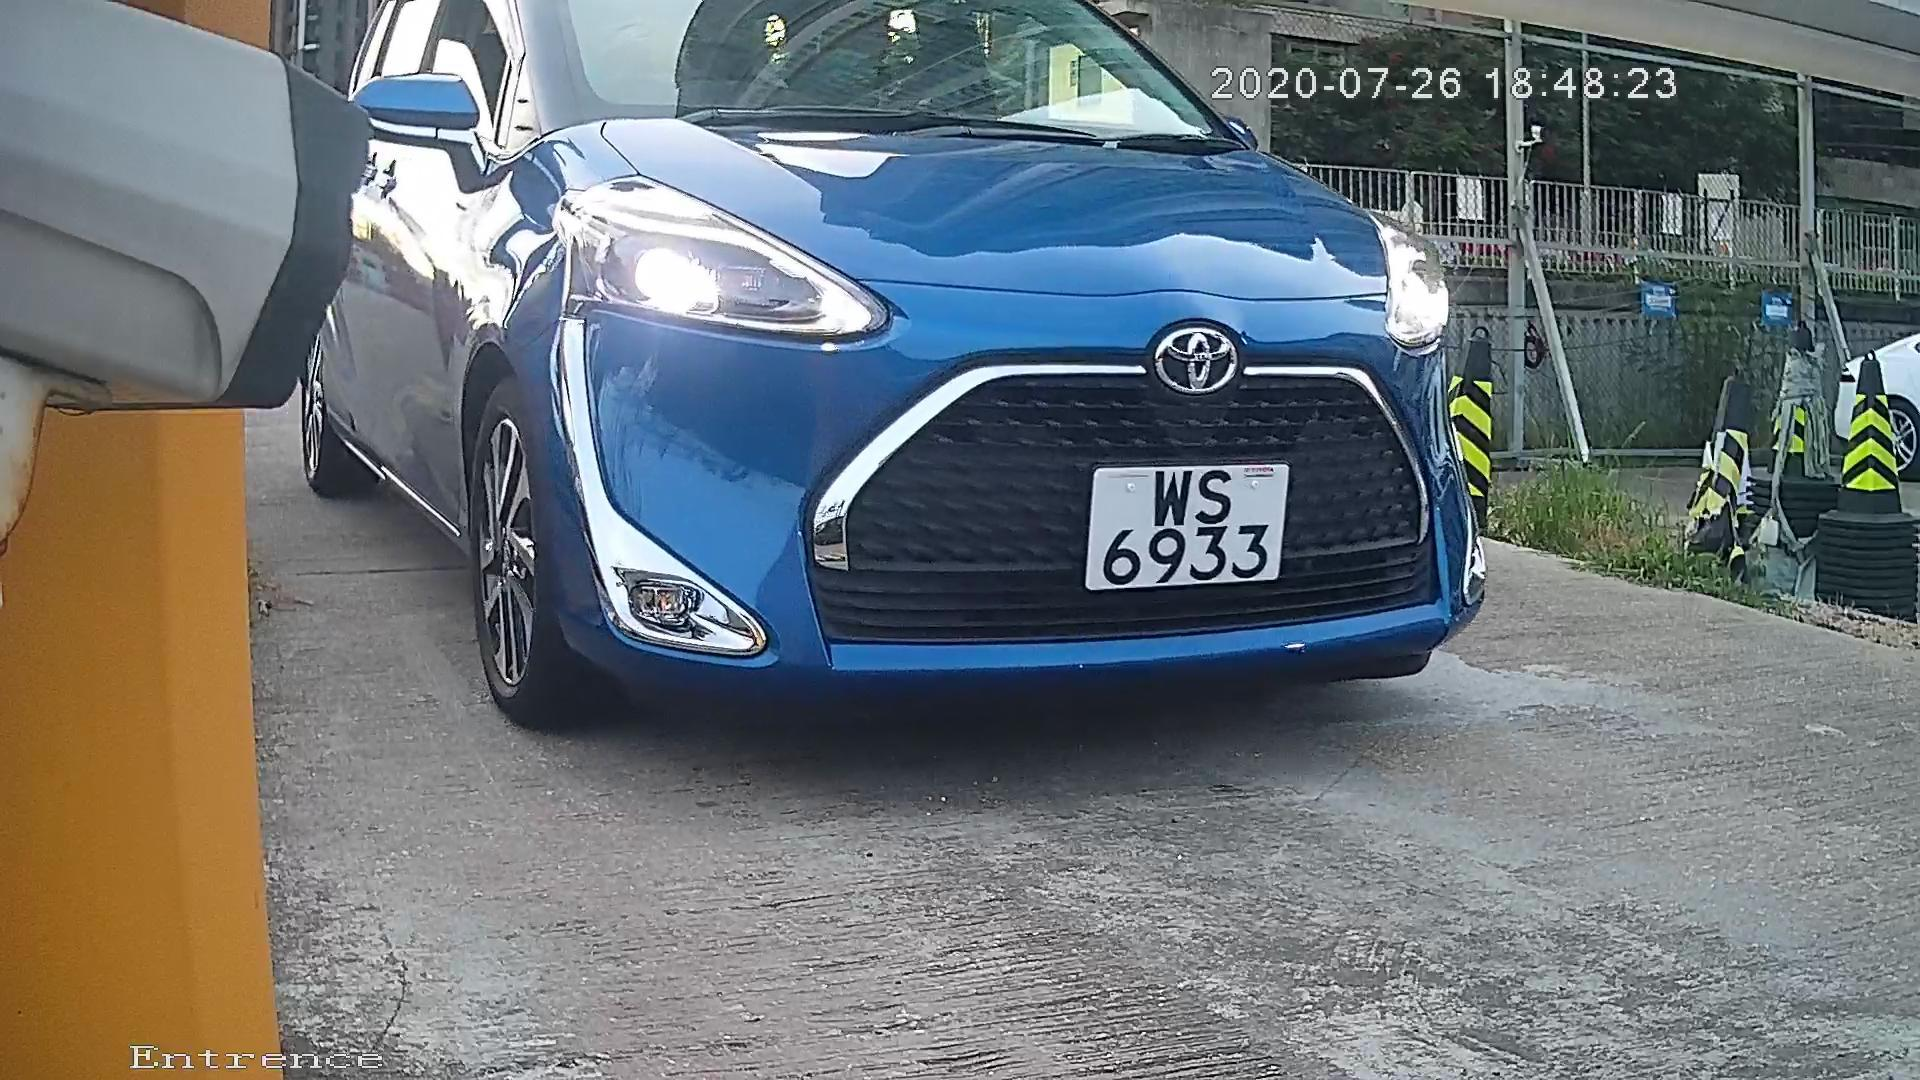Car: (223, 58, 1552, 767)
License Plate: (1072, 449, 1295, 603)
